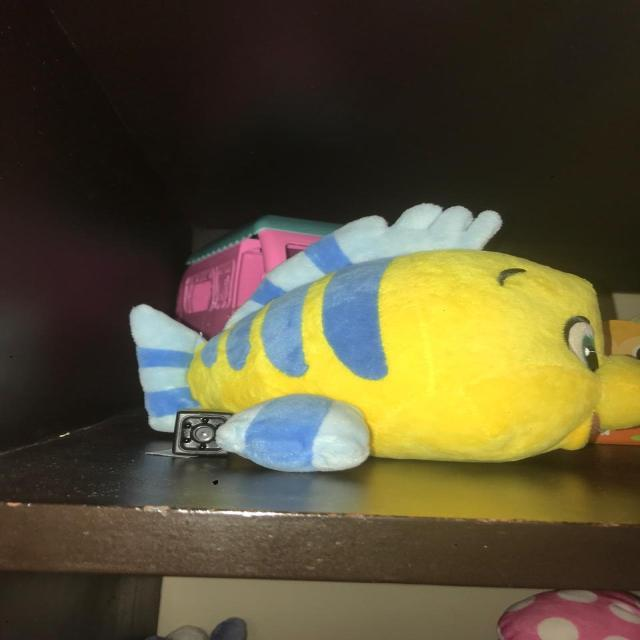hidden camera: (193, 425, 214, 443)
